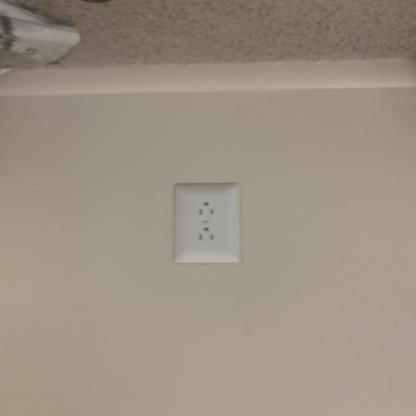OUTLET: (170, 183, 240, 264)
